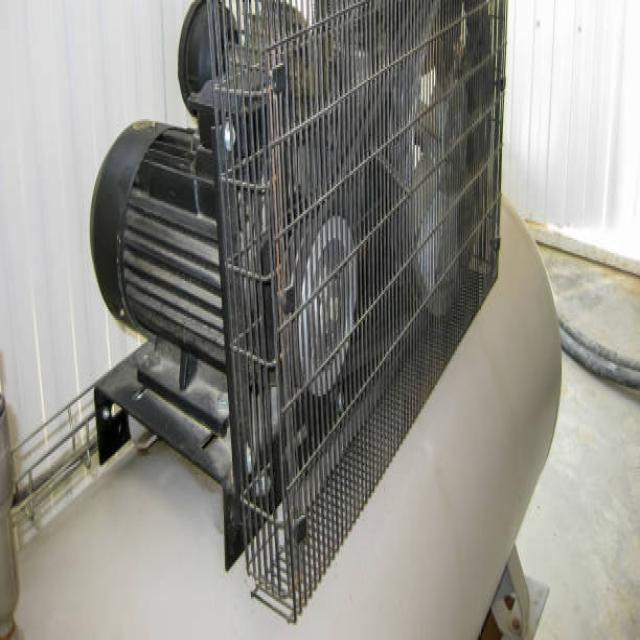compressor: (82, 0, 540, 633)
